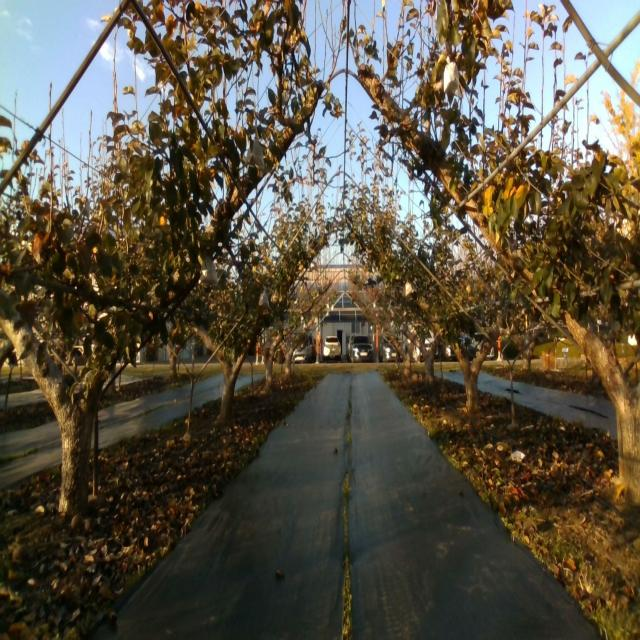pearbags: (443, 55, 462, 97), (245, 138, 265, 168), (200, 255, 218, 286), (258, 290, 270, 308)
